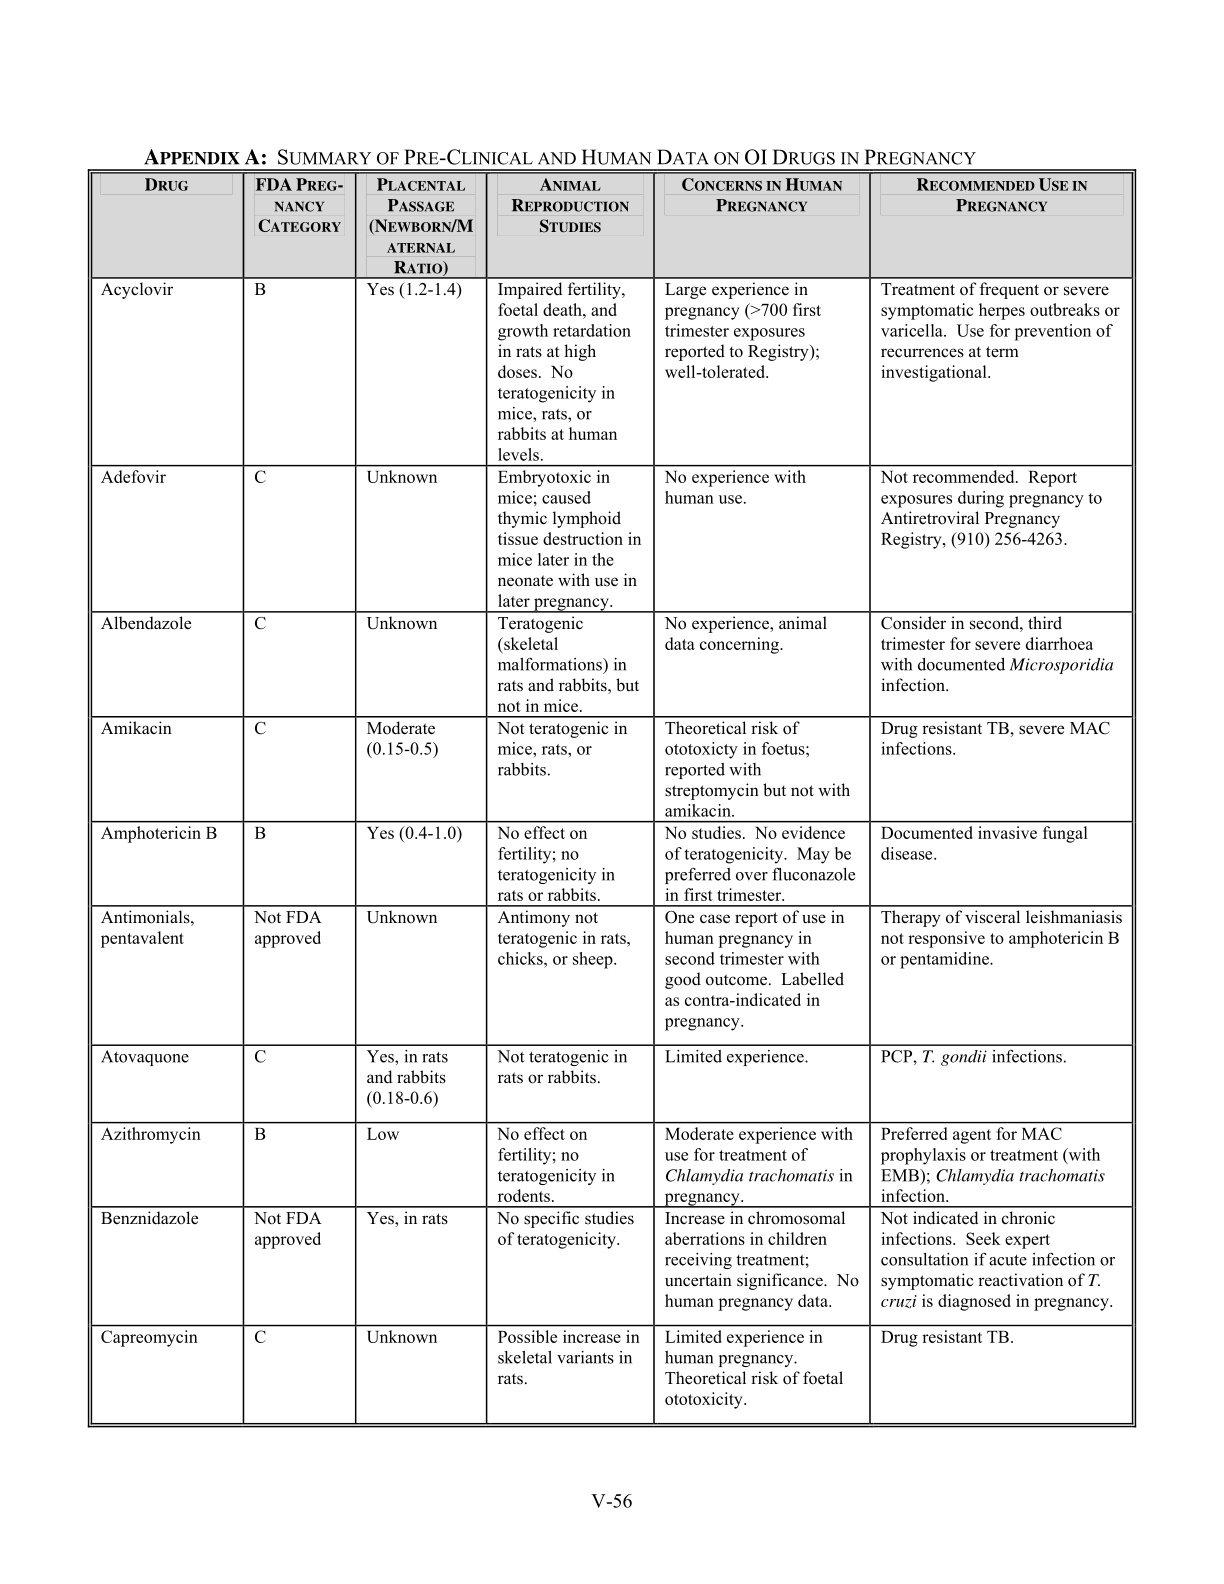full_lined: (86, 167, 1137, 1428)
